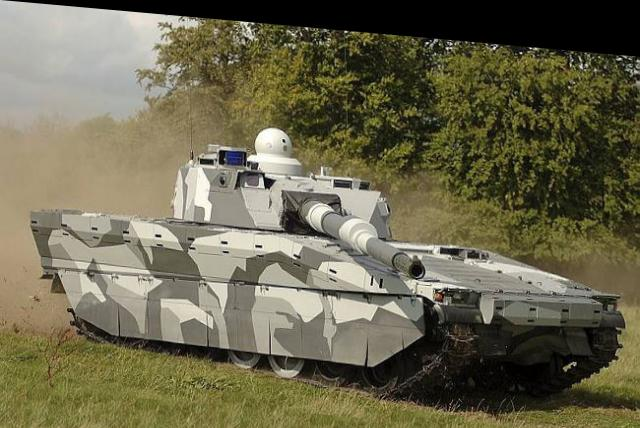tank: (17, 115, 620, 399)
